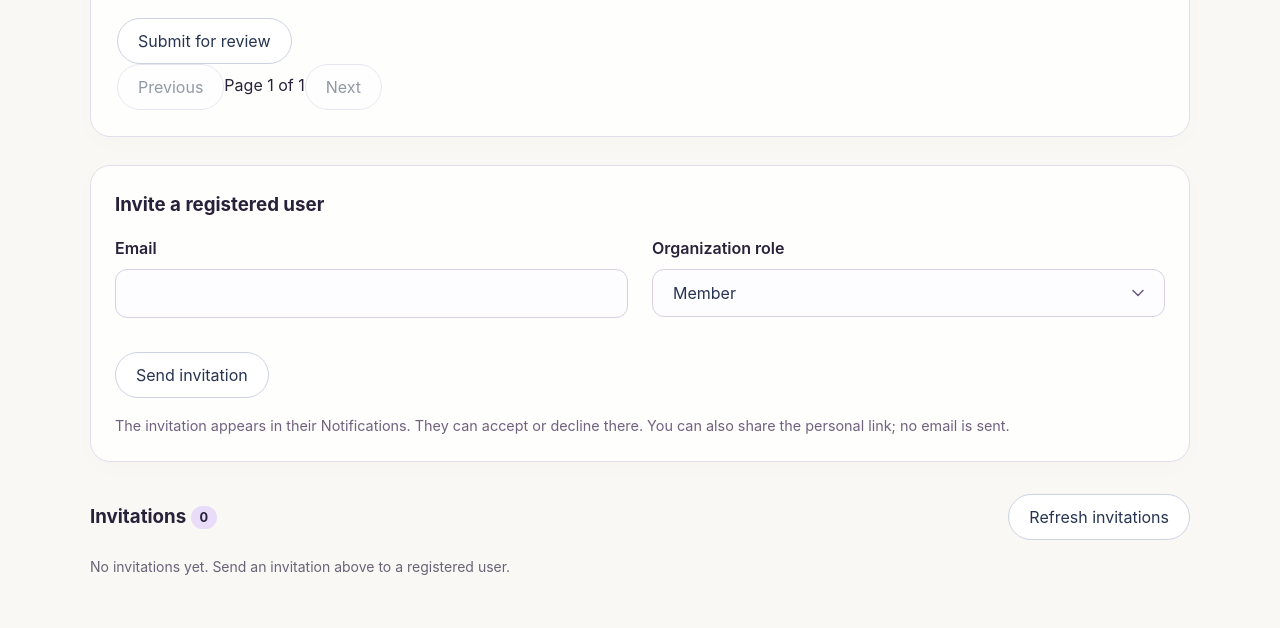
Scenario: explains duplicate members before creating an invitation
(page scrolled)
Type "tm10@123.com" into the field labelled "Email" at coordinates (372, 294), box 115,269 -> 628,318
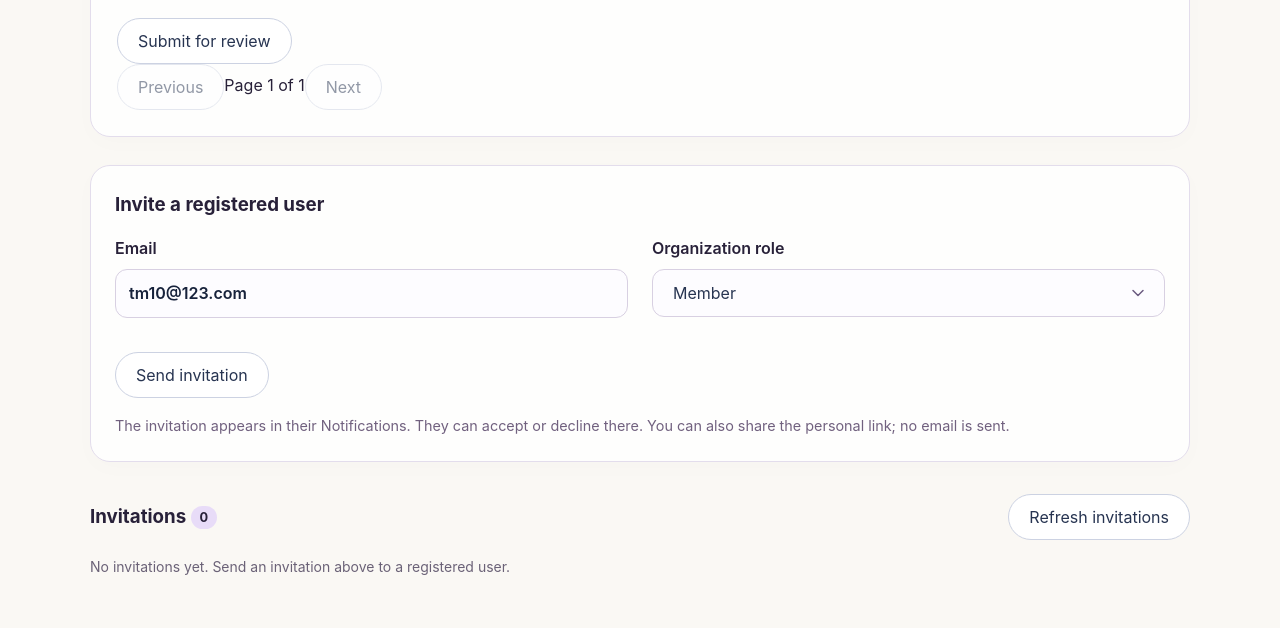
Click the button "Send invitation" at coordinates (192, 375), box 115,352 -> 269,398
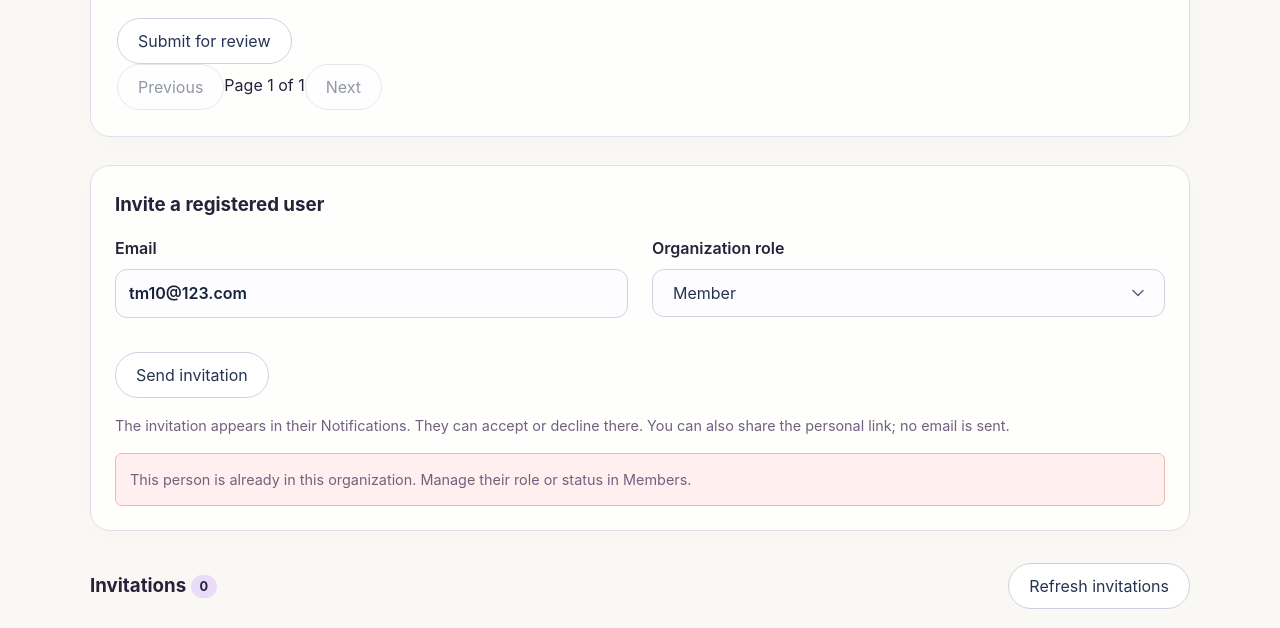
Expected: the message shows "already in this organization", 130,471 -> 692,488
